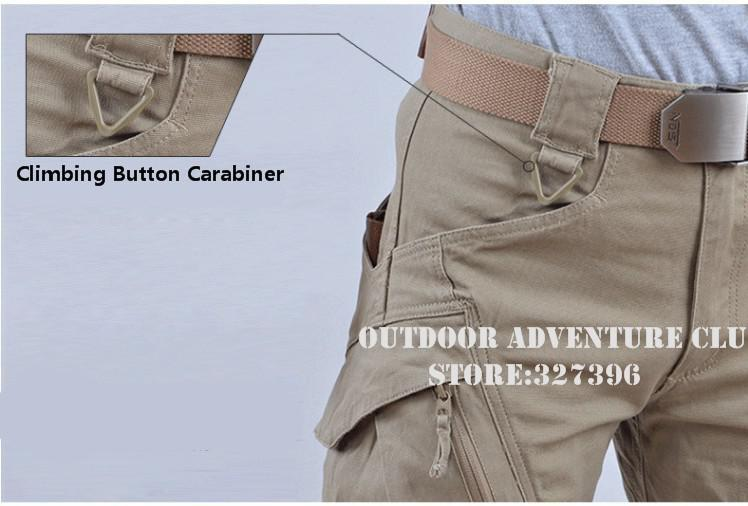pants: (316, 12, 748, 498)
